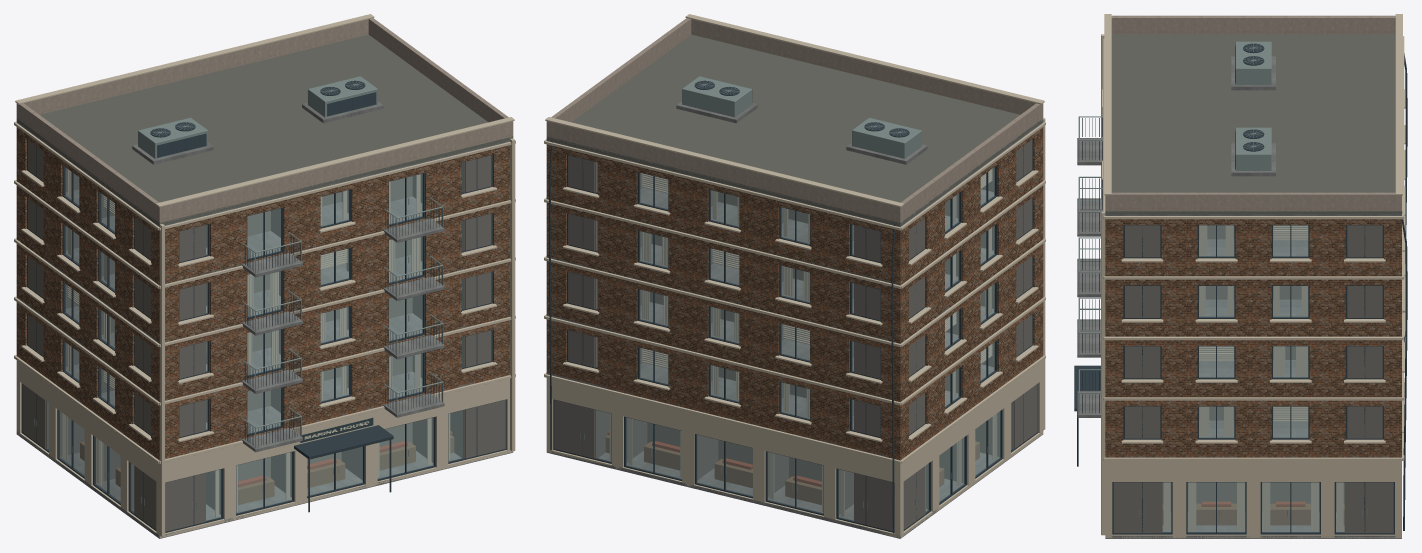
File: marina-house-v2.glb
3 renders of one model, left to right at view 1: azimuth 30°, elevation 25°; view 2: azimuth 150°, elevation 25°; view 3: azimuth 270°, elevation 25°, orthographic. The views are drawn at different scales.
Parts seen in each view (by area): view 1: Brick (×8), Limestone (×11), Roof_membrane, Recessed_clear_glass (×10), Interior_plaster (×16), Concrete (×5), Powder_coated_aluminium (×11), Plaster, Linen_curtains (×4), Galvanised_metal, Weathered_teak, Building_sign_ink; view 2: Brick (×8), Limestone (×11), Roof_membrane, Recessed_clear_glass (×10), Interior_plaster (×16), Plaster, Powder_coated_aluminium (×11), Concrete, Linen_curtains (×5), Galvanised_metal, Weathered_teak; view 3: Brick (×4), Roof_membrane, Limestone (×10), Interior_plaster (×15), Recessed_clear_glass (×5), Concrete (×5), Plaster, Powder_coated_aluminium (×7), Linen_curtains (×5), Galvanised_metal, Weathered_teak.
Boxes of the visible parts, x1,y1,x2,y2 form: Brick (×8): (16, 128, 509, 460); Limestone (×11): (14, 14, 515, 538); Roof_membrane: (16, 34, 513, 225); Recessed_clear_glass (×10): (47, 162, 463, 520); Interior_plaster (×16): (22, 155, 505, 531); Concrete (×5): (16, 101, 513, 538); Powder_coated_aluminium (×11): (21, 80, 506, 532); Plaster: (16, 18, 513, 223); Linen_curtains (×4): (215, 237, 450, 516); Galvanised_metal: (138, 76, 377, 158); Weathered_teak: (238, 435, 454, 504); Building_sign_ink: (300, 417, 373, 442); Brick (×8): (546, 129, 1043, 460); Limestone (×11): (544, 14, 1045, 537); Roof_membrane: (546, 34, 1043, 225); Recessed_clear_glass (×10): (596, 162, 1012, 520); Interior_plaster (×16): (554, 155, 1037, 531); Plaster: (546, 18, 1043, 224); Powder_coated_aluminium (×11): (549, 80, 1038, 533); Concrete: (546, 101, 1043, 538); Linen_curtains (×5): (609, 173, 853, 516); Galvanised_metal: (682, 76, 921, 158); Weathered_teak: (605, 435, 821, 504); Brick (×4): (1105, 219, 1401, 457); Roof_membrane: (1105, 34, 1401, 214); Limestone (×10): (1101, 14, 1405, 538); Interior_plaster (×15): (1113, 225, 1393, 533); Recessed_clear_glass (×5): (1163, 225, 1344, 532); Concrete (×5): (1077, 56, 1401, 538); Plaster: (1105, 15, 1401, 212); Powder_coated_aluminium (×7): (1074, 43, 1407, 534); Linen_curtains (×5): (1163, 225, 1343, 530); Galvanised_metal: (1235, 41, 1271, 170); Weathered_teak: (1162, 503, 1344, 525).
Size of the model in its own units: 20.34 by 18.18 by 15.74.
13 materials, 4 textured.
